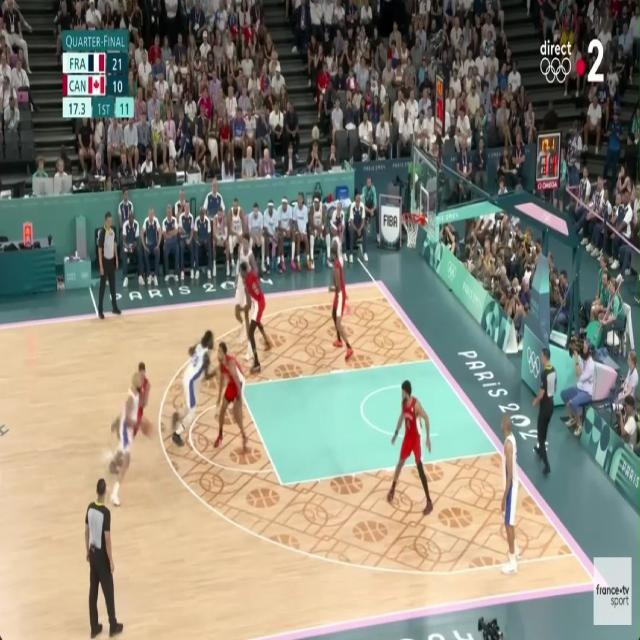ball_handler: (112, 374, 150, 506)
